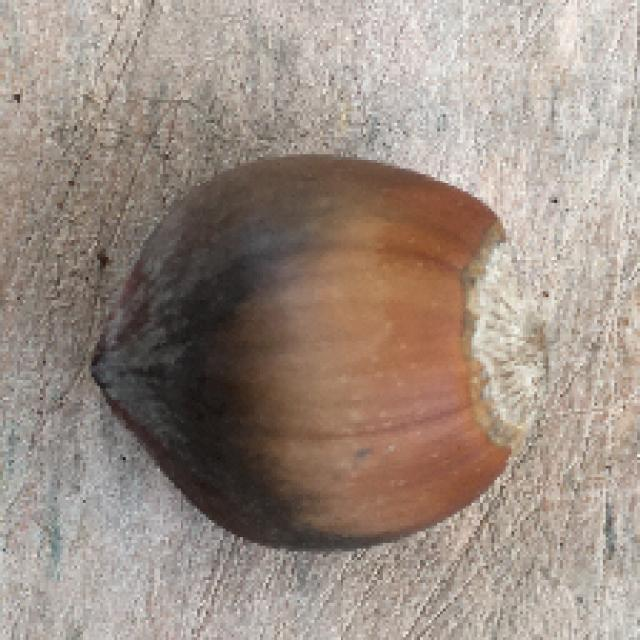damagedHazelnut: (83, 153, 557, 557)
